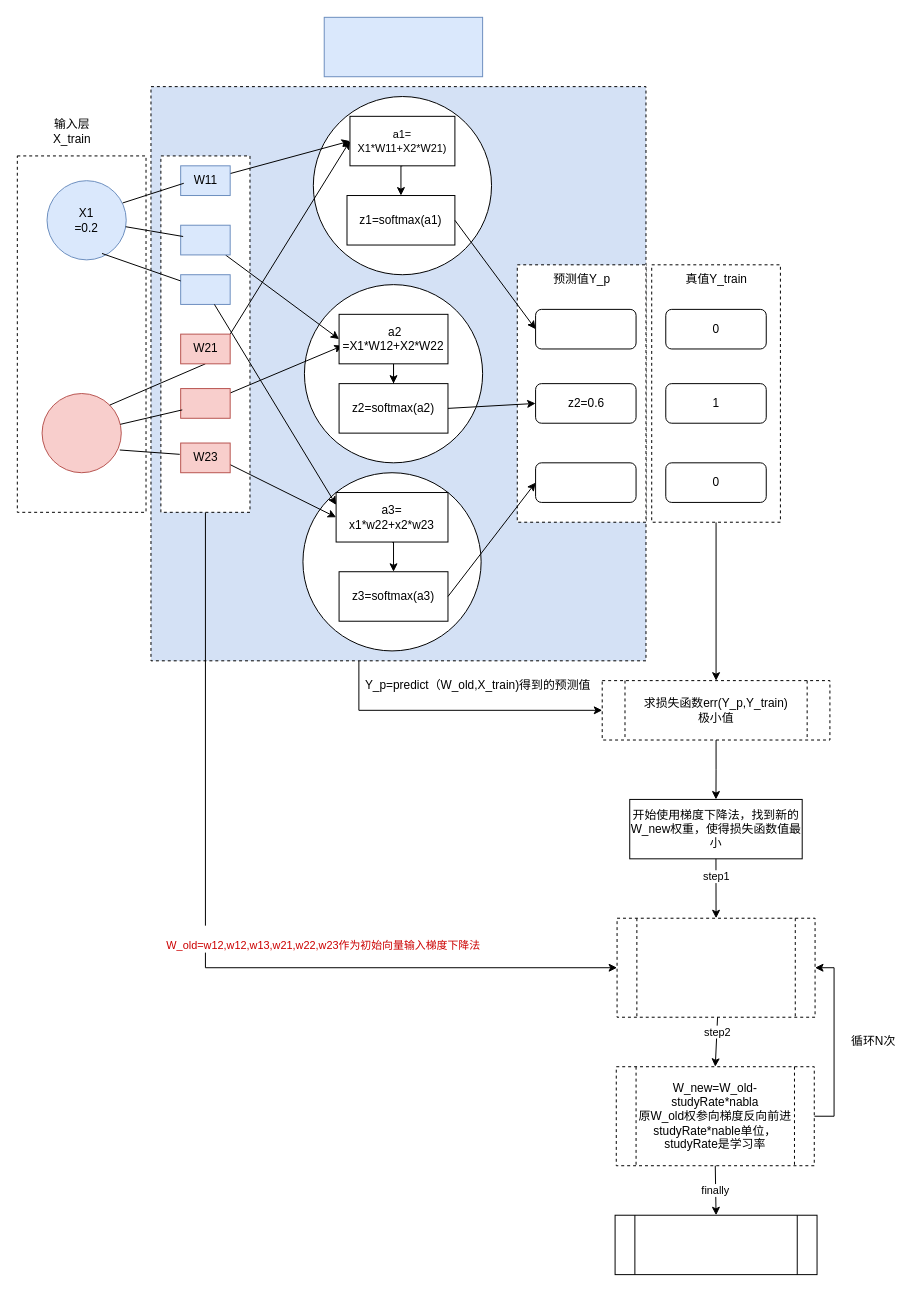
This 921x1292 diagram has some shape labels left out. Each missing label, with the centre of its shape:
W12: point (205, 239)
W13: point (205, 289)
W22: point (205, 403)
X2=0.3: point (81, 433)
z1=0.2: point (585, 328)
z3=0.2: point (585, 482)
得到最优的W_new此时err误差函数实现极小（但不一定是最小）: point (715, 1244)
求得err(Y_p,Y_train)在点W_old出的梯度向量nabla，梯度向量负方向就是err损失函数最快下降方向: point (715, 967)
隐藏层可以整体看成一个权参和X_train的函数predict(W_old,X_train): point (403, 46)
